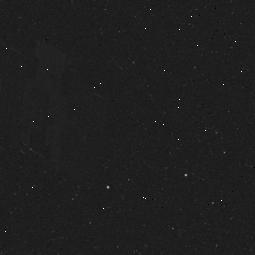proba_2: (3, 38, 95, 183)
